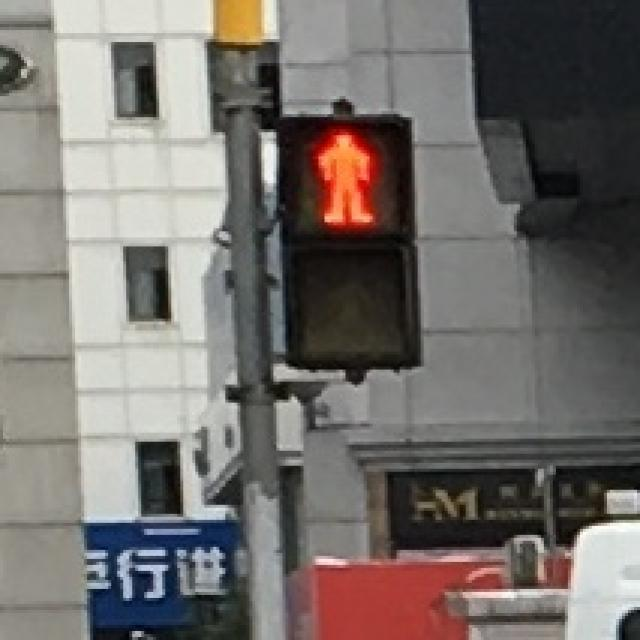red-crossing: (286, 120, 396, 232)
